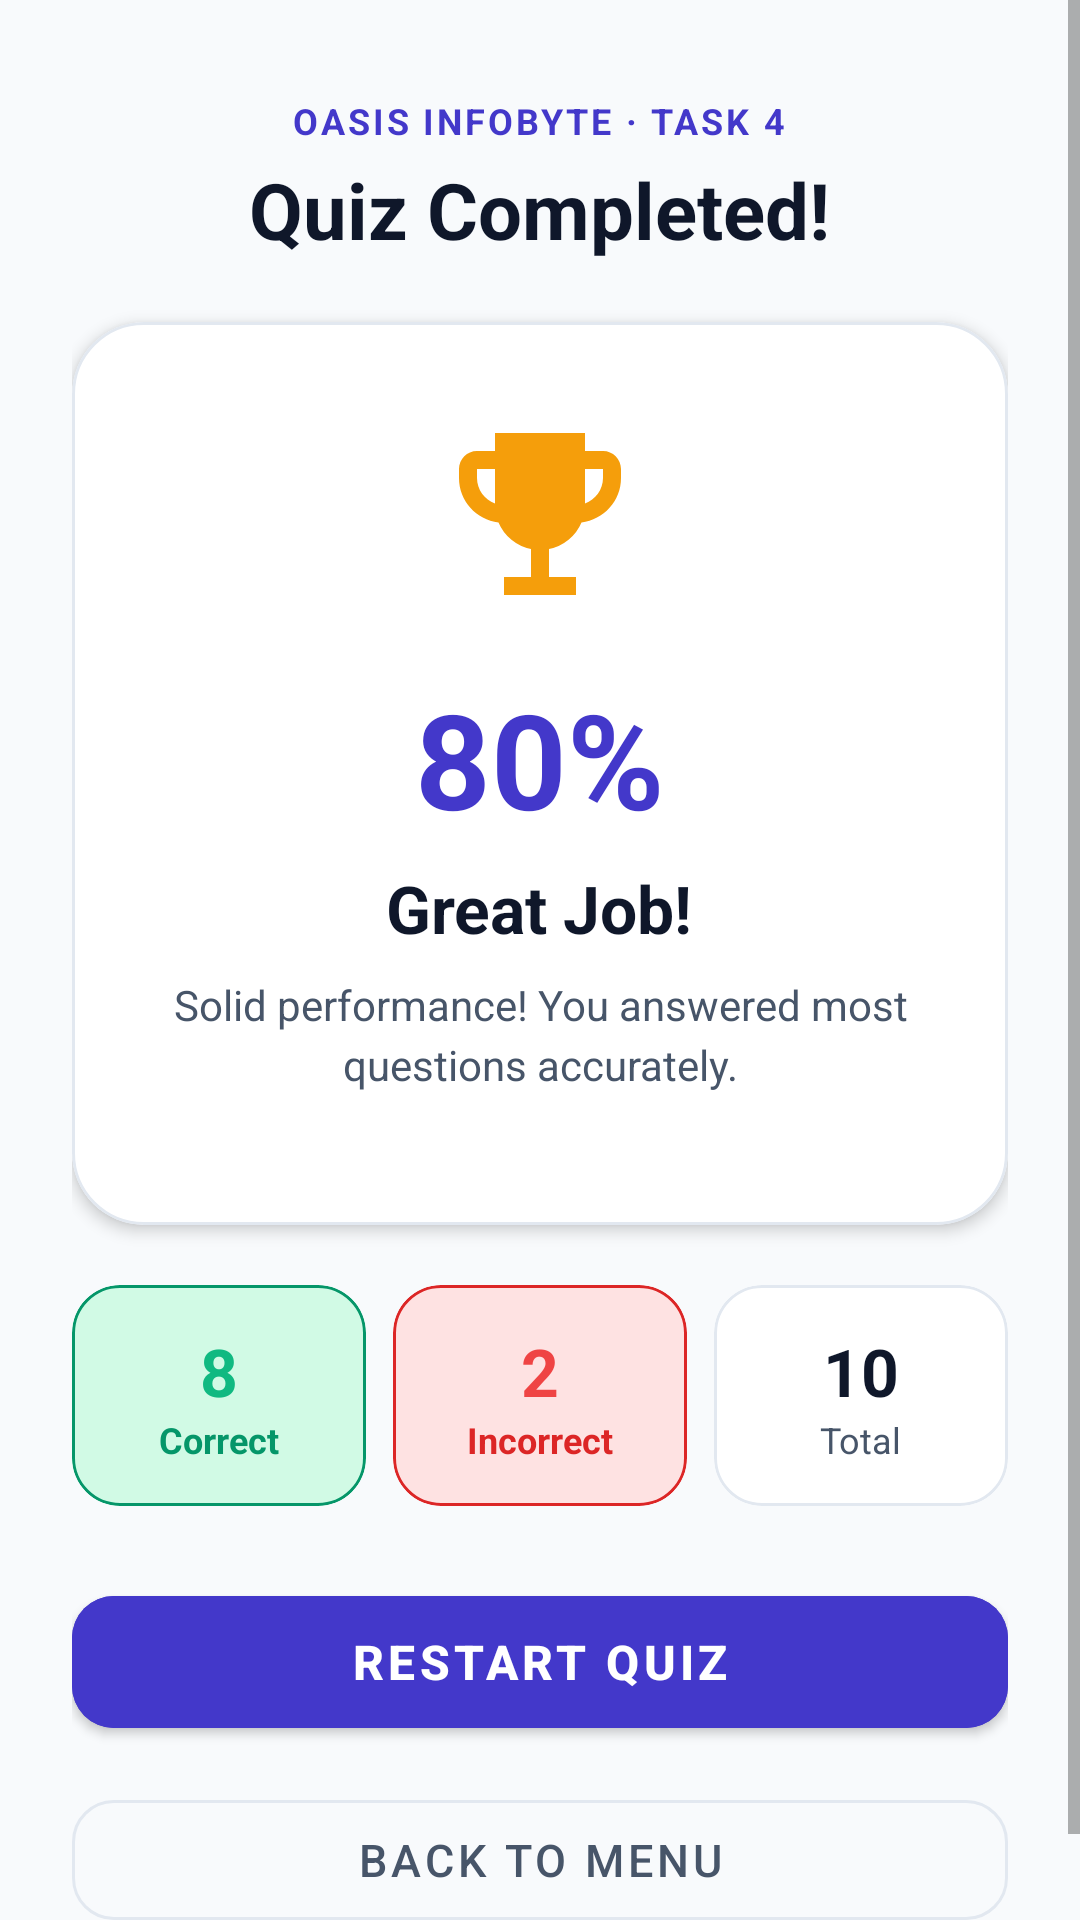

Where to tap for icons on this 1080 × 1920 app screen, as (x,y):
Result Trophy: (540,514)
